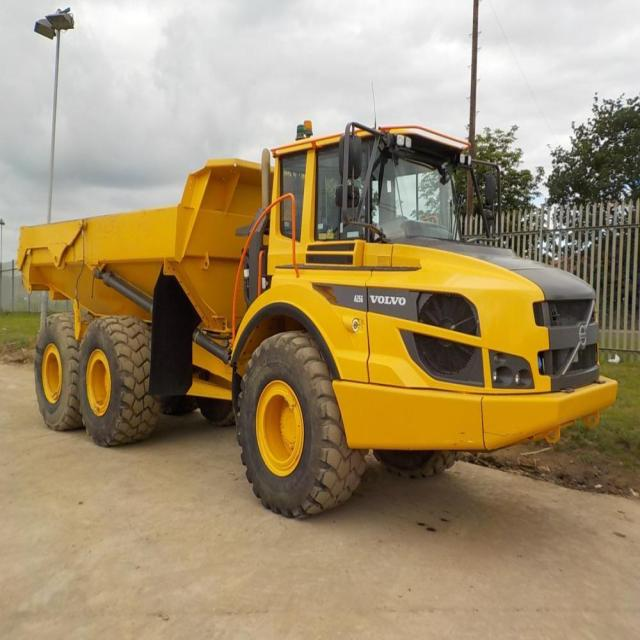dump_truck: (18, 120, 614, 520)
